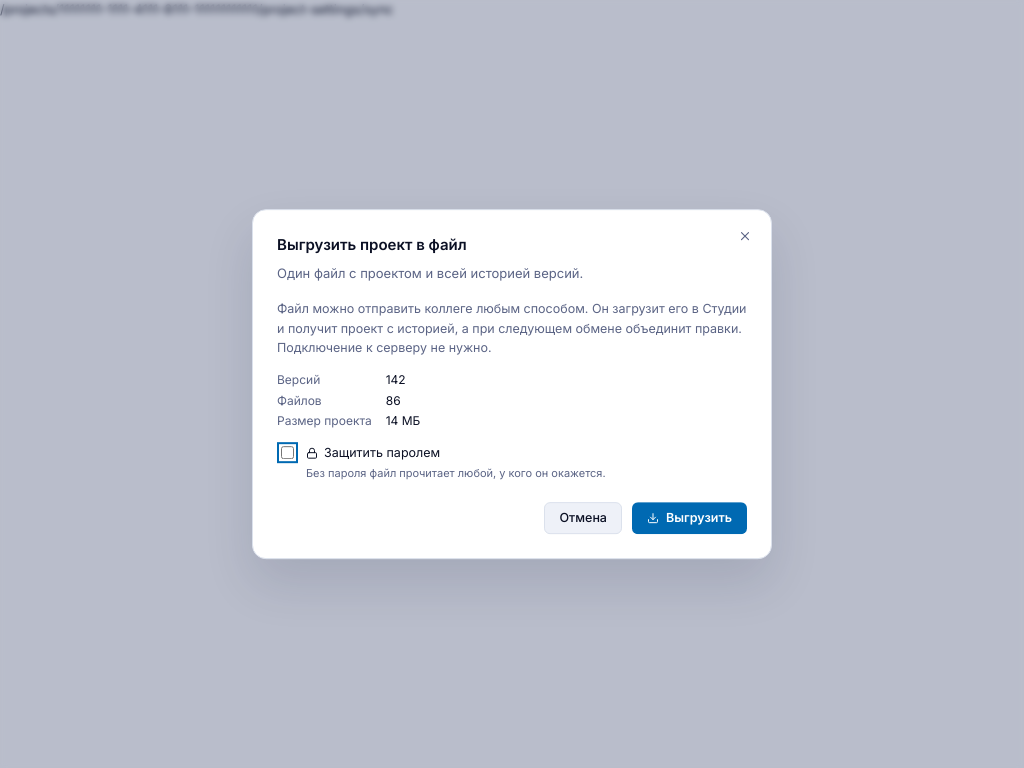
Scenario: окно выгрузки проекта в файл › не выгружает, если правки в редакторе не сохранились
This screenshot has width=1024, height=768.
Click the button "Выгрузить".
click(690, 518)  # box [632,502,747,534]
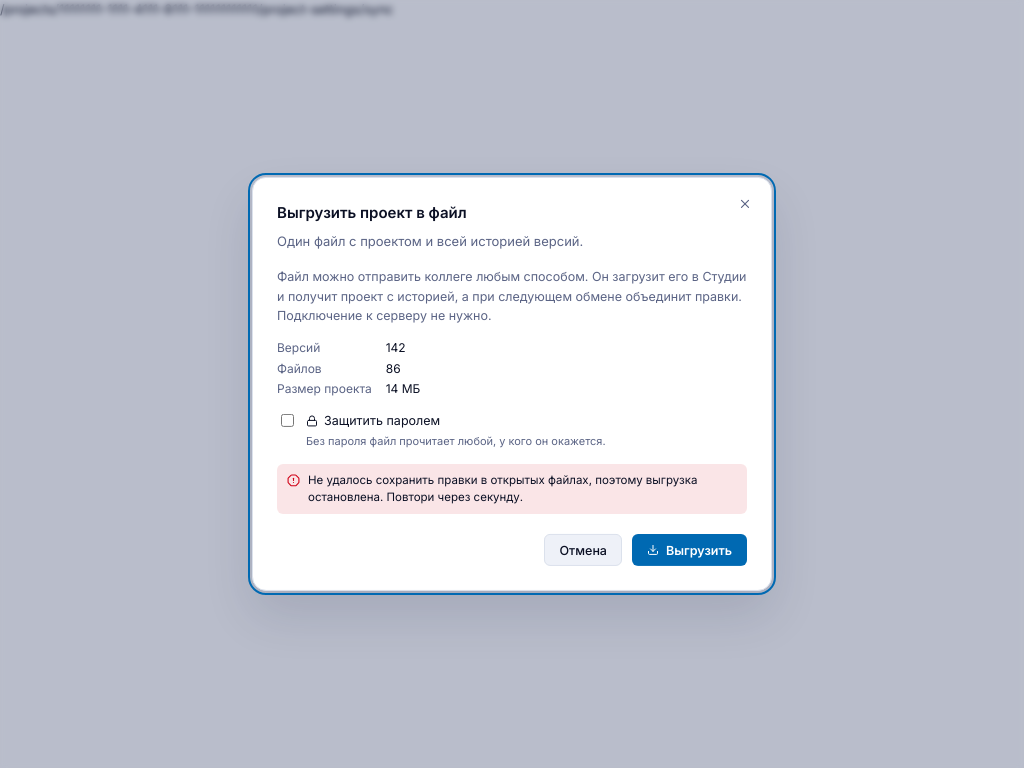
expect the message shows "Не удалось сохранить правки": met, box [308,473,698,504]
